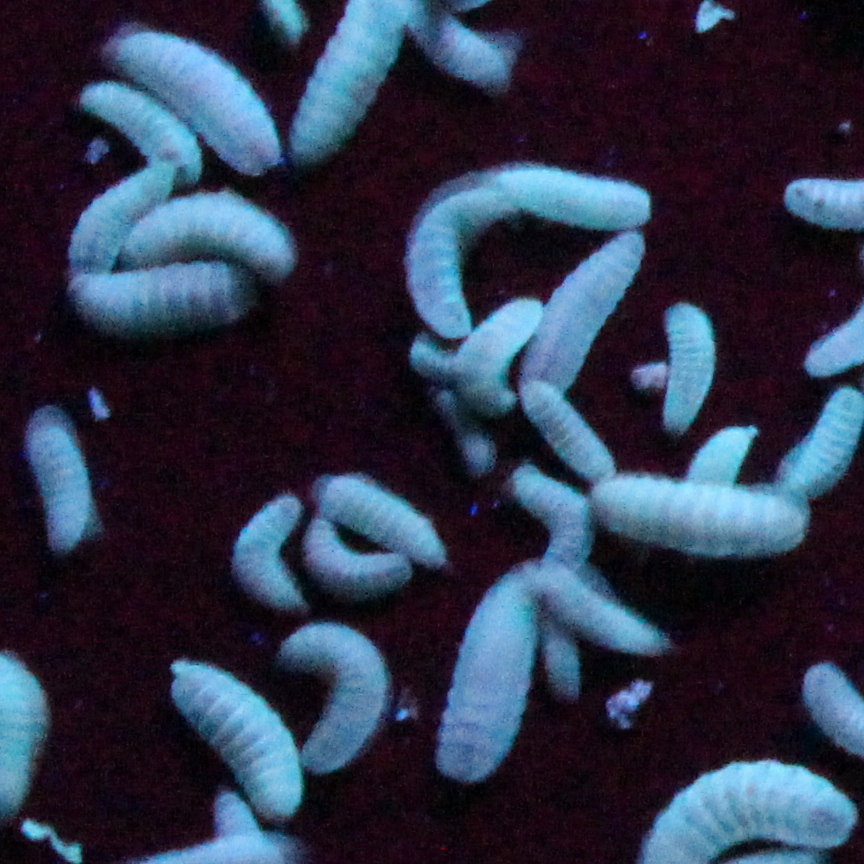larve: (439, 569, 530, 769), (536, 237, 650, 392), (142, 27, 265, 166), (162, 666, 285, 800), (310, 466, 462, 566), (279, 637, 390, 766), (602, 483, 819, 546), (379, 0, 516, 97), (527, 557, 670, 646), (125, 200, 293, 272), (78, 84, 201, 181), (210, 483, 305, 606), (50, 166, 173, 260), (416, 194, 502, 326), (456, 297, 542, 420), (16, 412, 96, 537), (67, 277, 247, 320), (533, 392, 616, 480), (656, 309, 716, 429), (496, 177, 648, 223)
